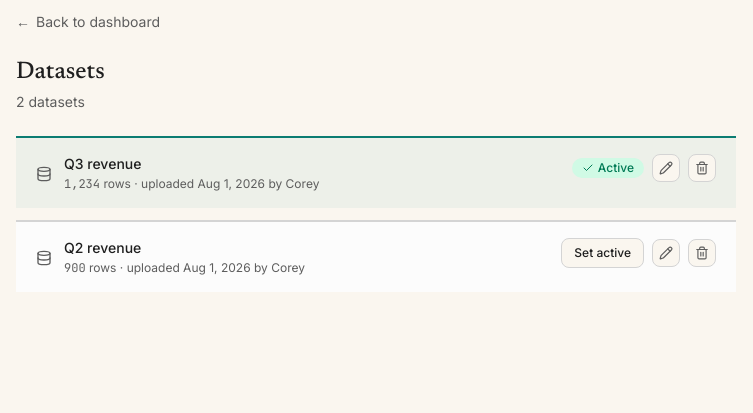
Scenario: Datasets delete › names what else will be destroyed before asking to confirm
Expected: the text "Q3 revenue" is shown, [64,155,142,172]
Click the button named "Delete dataset" in the row of "Q3 revenue".
click(702, 168)  # box [688,154,716,182]
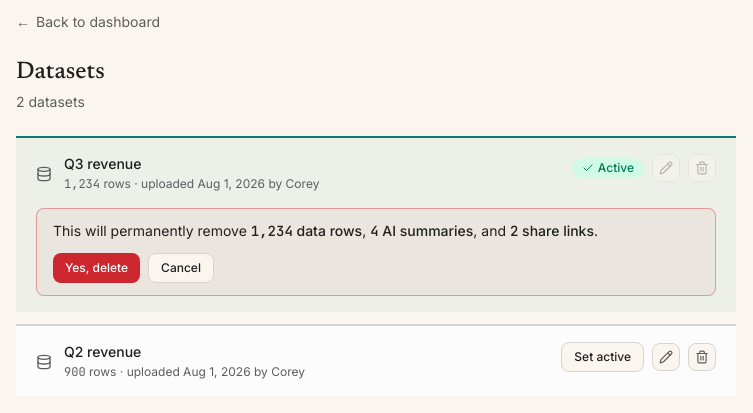
Expected: the text "permanently remove" is shown, [53,222,247,239]
Expected: the text "4" is shown, [370,222,378,240]
Expected: the text "2" is shown, [510,222,518,240]
